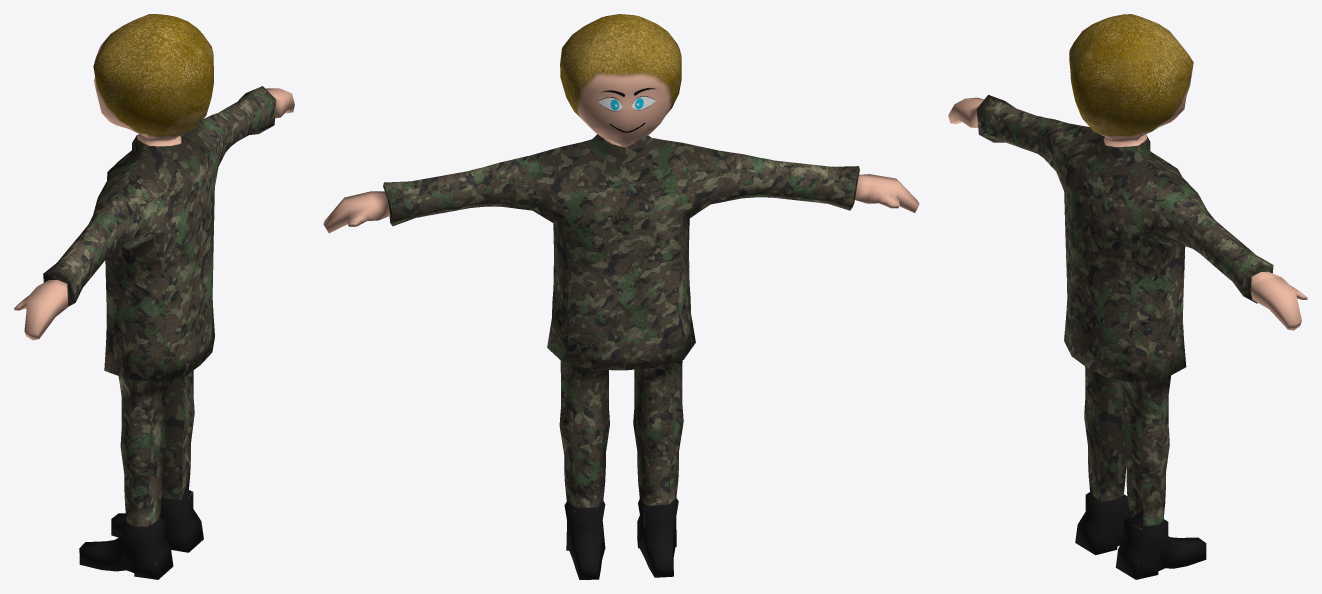
The model's file is persona.fbx.
The picture shows the model from 3 angles, left to right: view 1: azimuth 30°, elevation 25°; view 2: azimuth 150°, elevation 25°; view 3: azimuth 270°, elevation 25°; orthographic projection.
Visible parts, largest first — view 1: persona; view 2: persona; view 3: persona.
Boxes of the visible parts, <box> form: persona: <box>14,14,294,579</box>; persona: <box>323,14,919,579</box>; persona: <box>948,14,1307,579</box>.
Bounding box in the file's own units: 151 × 179 × 108.
